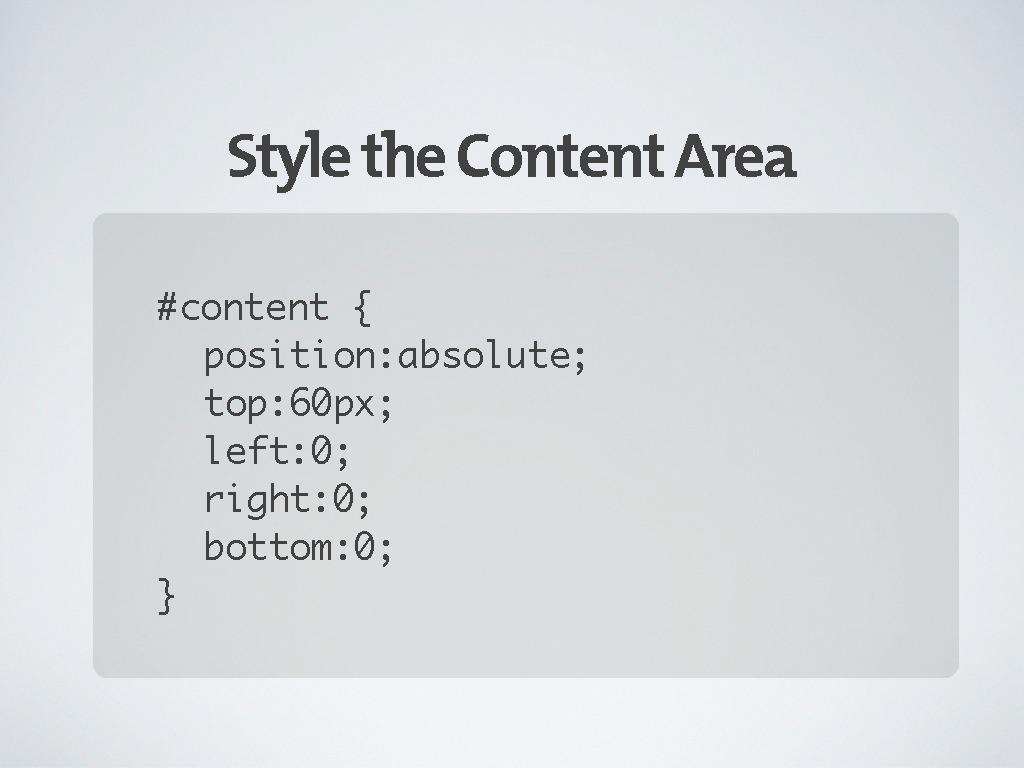paragraph: (139, 260, 616, 629)
title: (216, 119, 818, 194)
